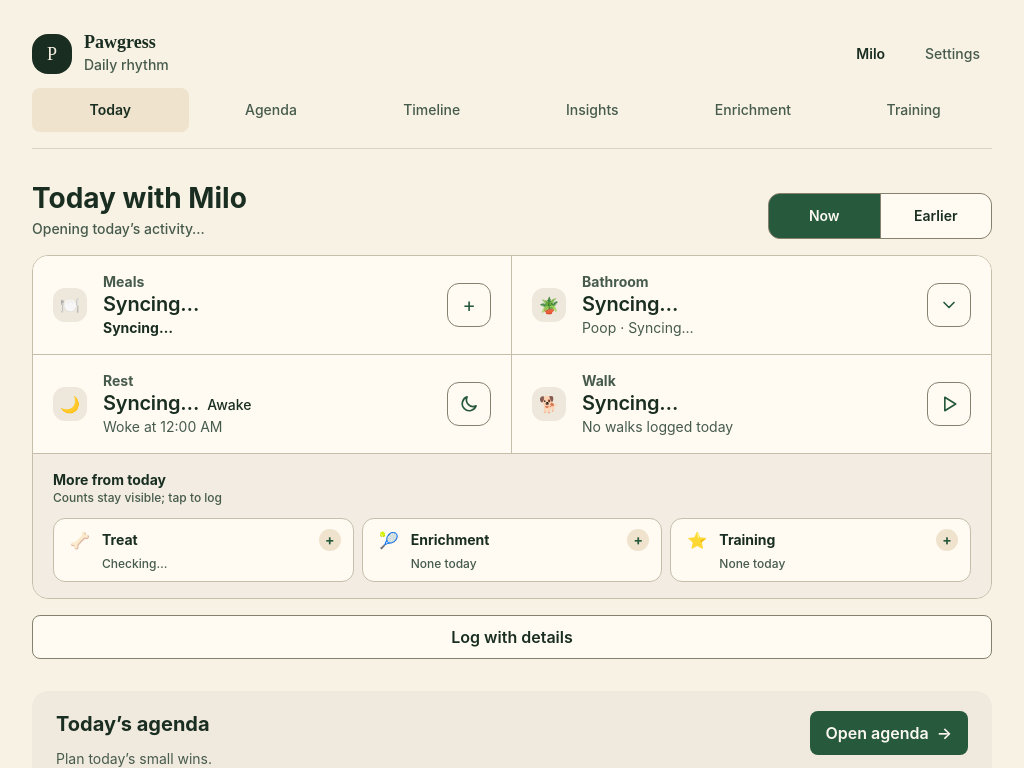
Test: DashboardPage sleep controls › maps a concurrent transition conflict and unlocks the next action
Click the button named "Log Fell asleep".
click(469, 404)  # box [447,382,491,426]
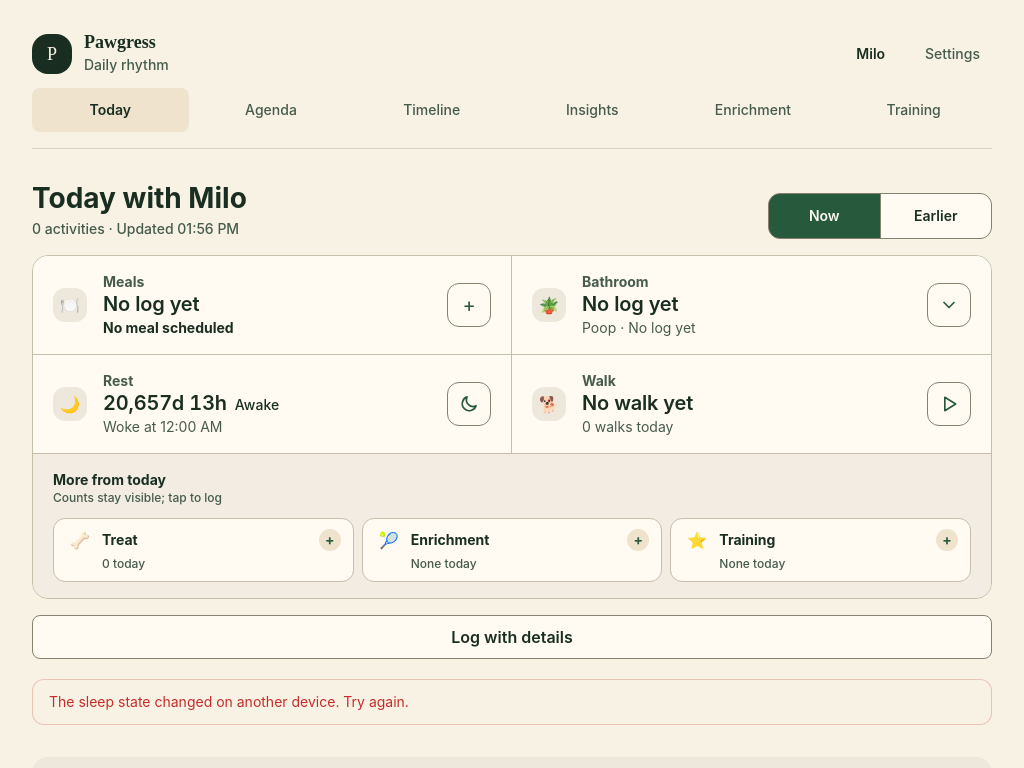
Expected: the message reads "The sleep state changed on another device. Try again.", [49,693,409,710]
